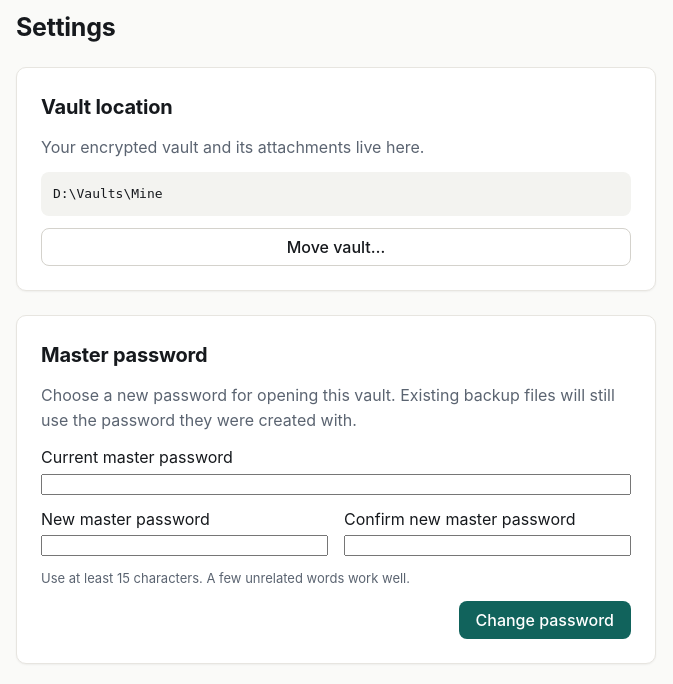
Test: SettingsPage › changes the password after validating and confirming the new password
The width and height of the screenshot is (673, 684).
Type "current-master-password" into the password field labelled "Current master password".
click(336, 484); type("current-master-password")  # box [41,474,631,495]
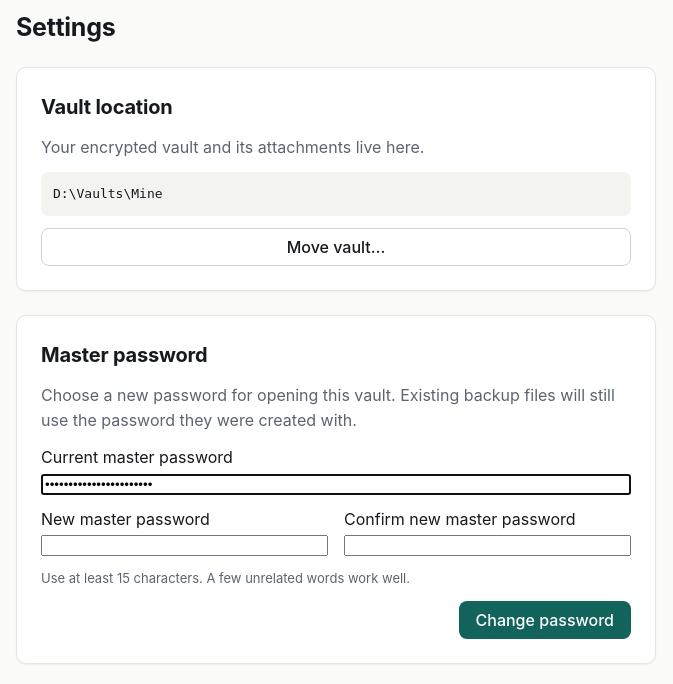
Type "replacement-master-password" into the password field labelled "New master password".
click(184, 546); type("replacement-master-password")  # box [41,535,328,556]
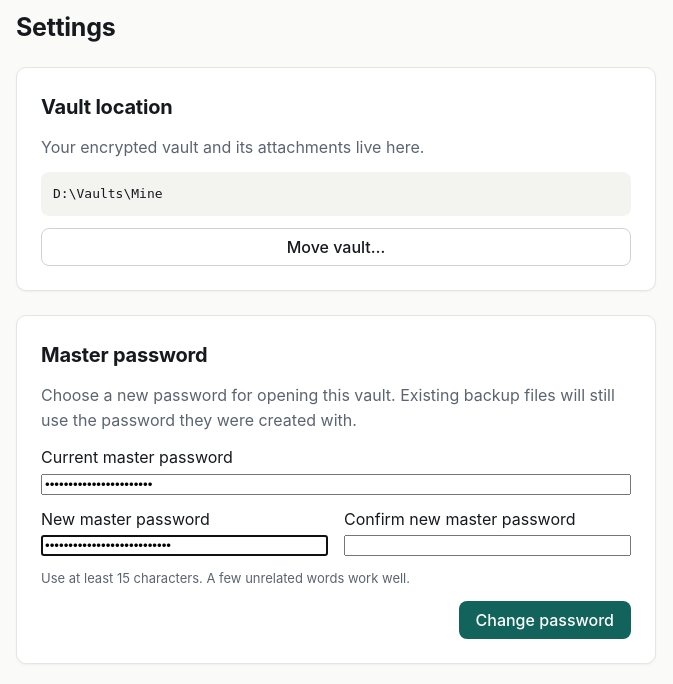
Type "replacement-master-password" into the password field labelled "Confirm new master password".
click(488, 546); type("replacement-master-password")  # box [344,535,631,556]
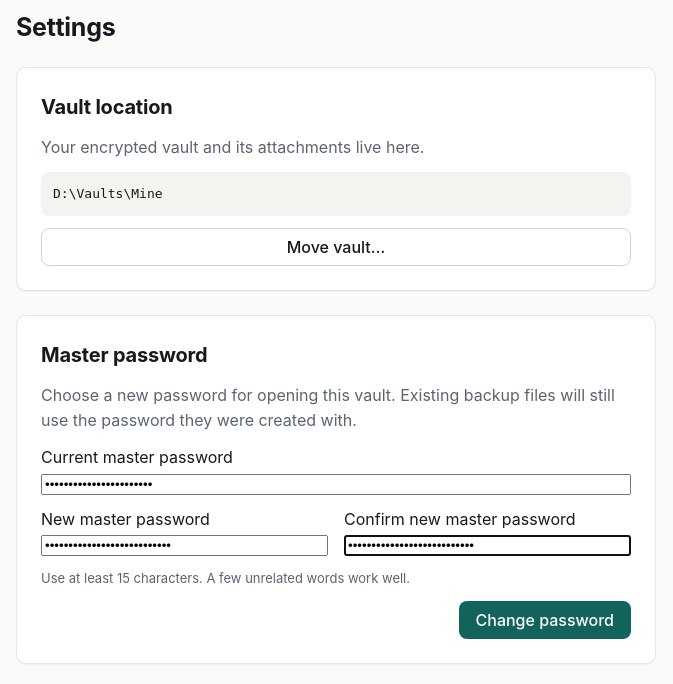
Click the button "Change password".
click(545, 620)  # box [458,600,631,638]
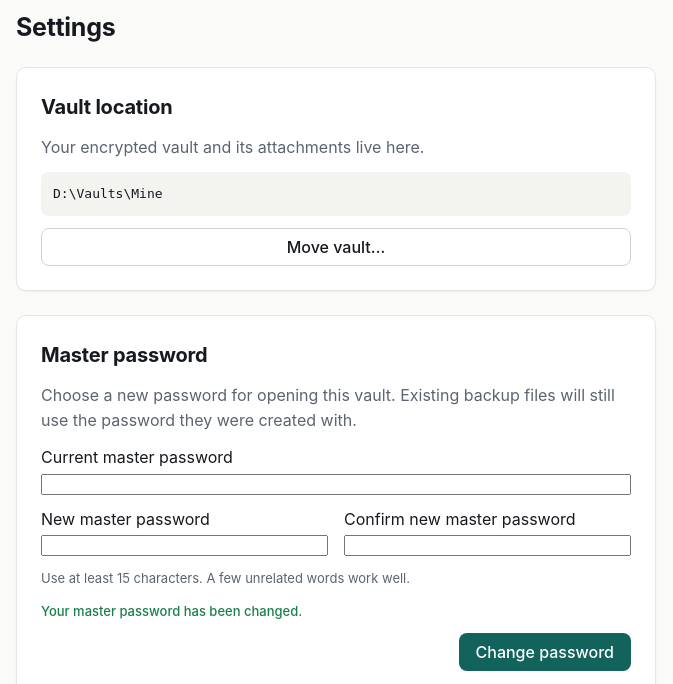
Check: the message reads "Your master password has been changed.", box [41,602,302,618]
Check: the password field labelled "Current master password" is empty, box [41,474,631,495]
